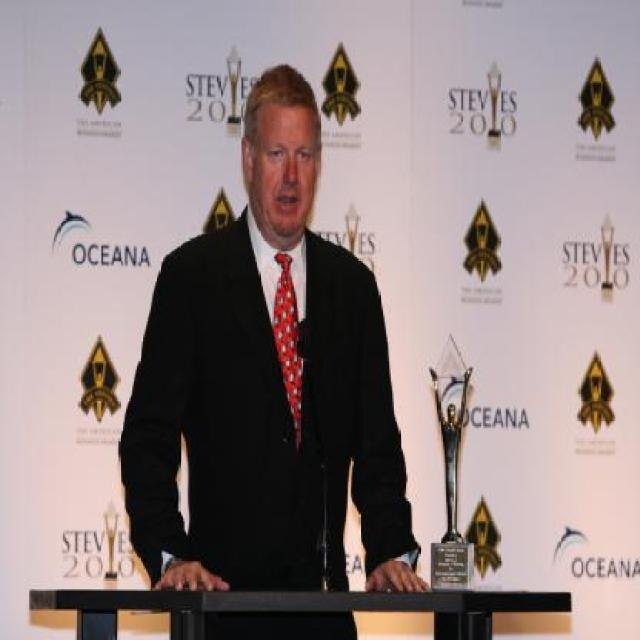obstacle: (132, 84, 406, 608)
